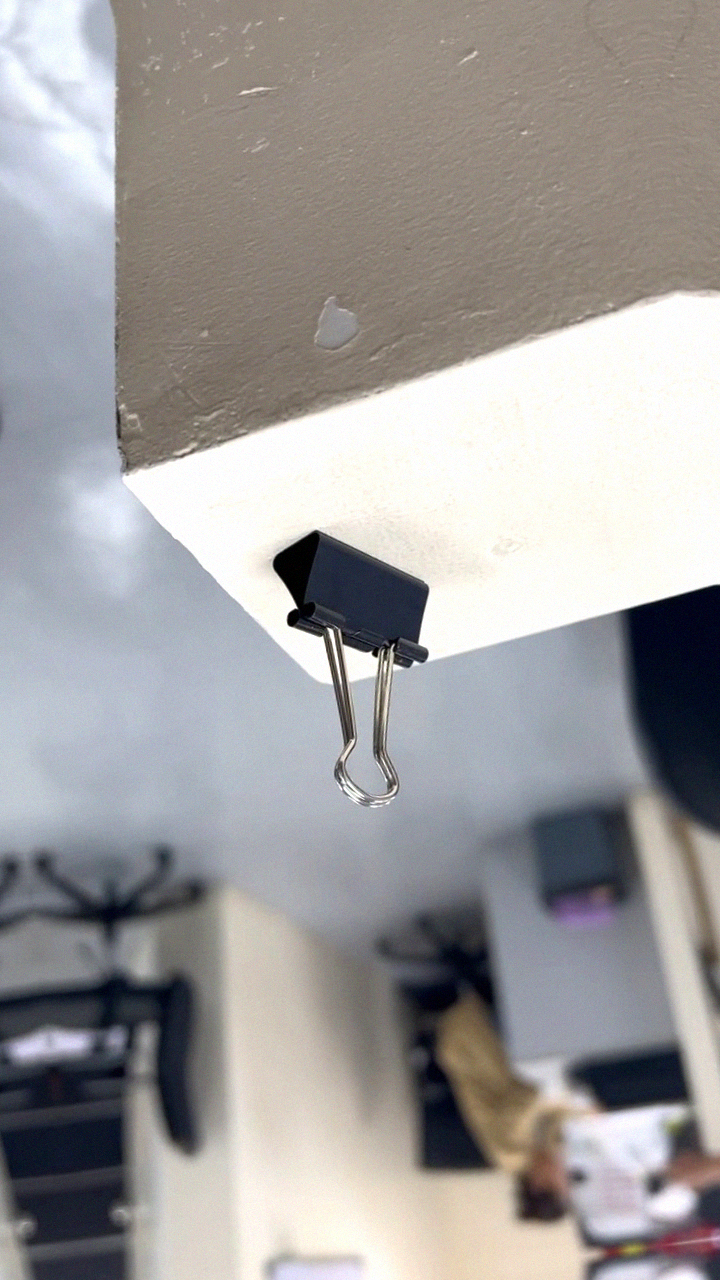kep_giay: (260, 510, 468, 819)
